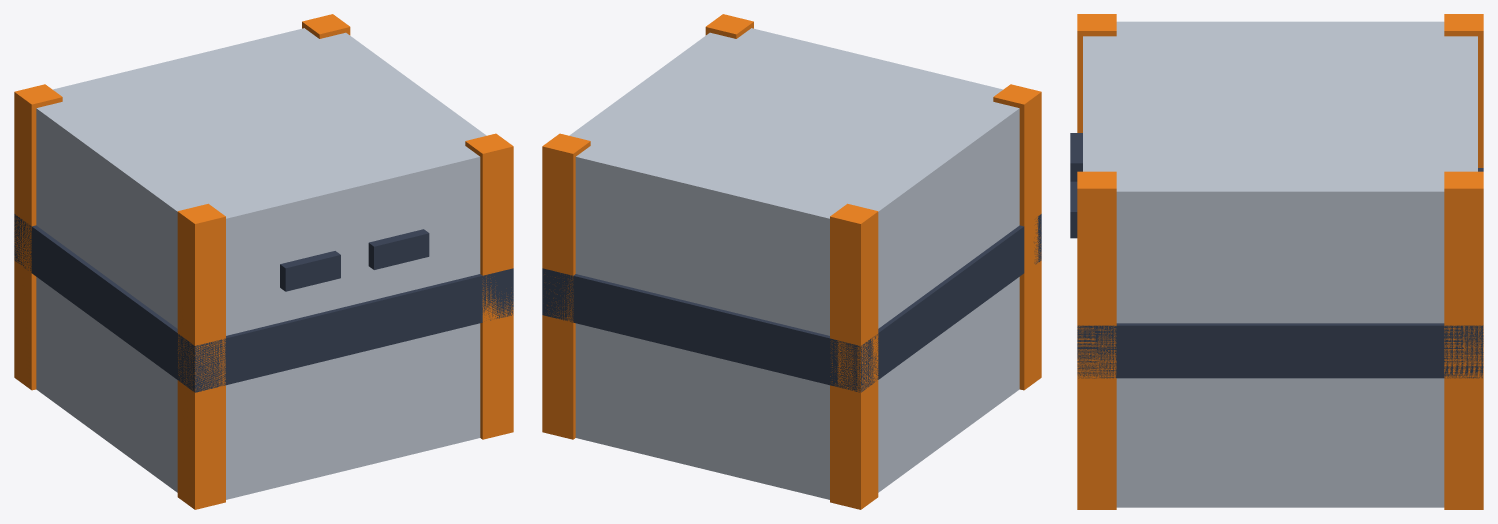
File: env_r9_cargo_crate.glb
3 renders of one model, left to right at view 1: azimuth 30°, elevation 25°; view 2: azimuth 150°, elevation 25°; view 3: azimuth 270°, elevation 25°, orthographic. The views are drawn at different scales.
Visible parts, largest first — view 1: env_r9_cargo_crate; view 2: env_r9_cargo_crate; view 3: env_r9_cargo_crate.
Part boxes in pixels (<box>): env_r9_cargo_crate: <box>14,14,513,509</box>; env_r9_cargo_crate: <box>542,14,1041,509</box>; env_r9_cargo_crate: <box>1070,14,1483,509</box>.
Bounding box in the file's own units: 1.4 × 1.2 × 1.4.
1 material, 1 textured.
